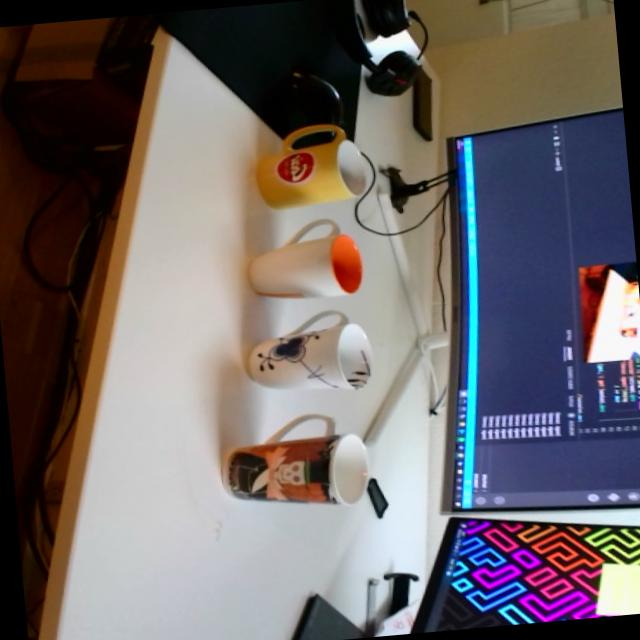Cocio Cup: (251, 119, 372, 212)
Halloween cup: (221, 408, 375, 517)
Hand painted cup: (239, 307, 374, 402)
White Cup: (242, 214, 366, 304)
